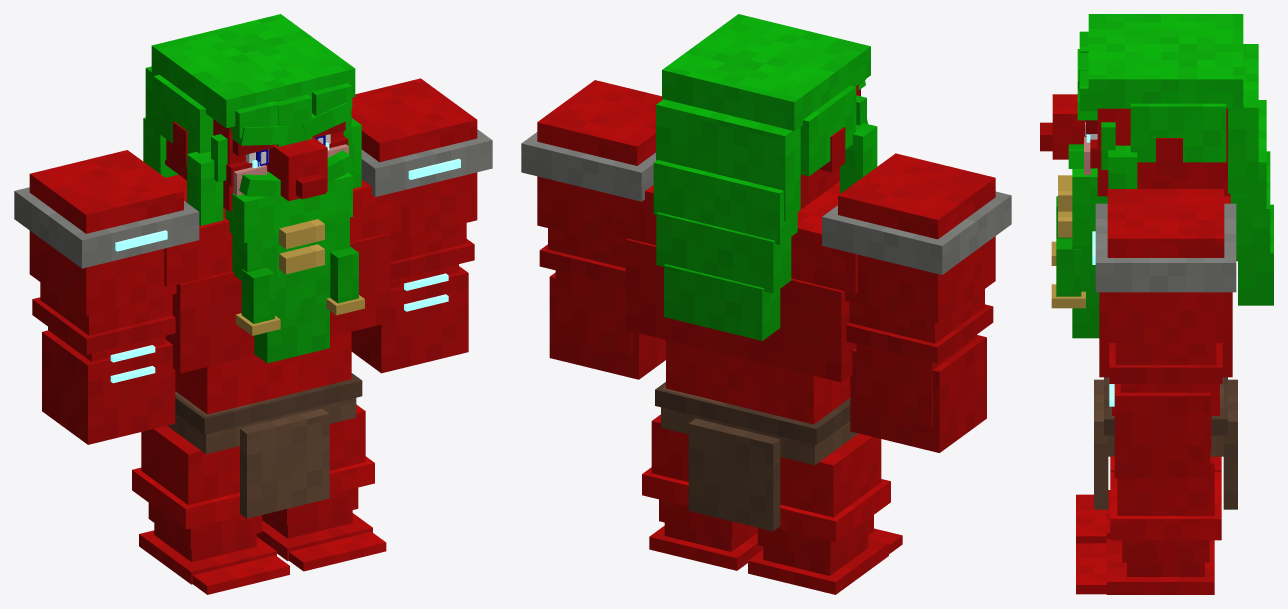
Rendered from dwarf_s1_evo2.glb.
3 renders of one model, left to right at view 1: azimuth 30°, elevation 25°; view 2: azimuth 150°, elevation 25°; view 3: azimuth 270°, elevation 25°, orthographic. The views are drawn at different scales.
Visible parts, largest first — view 1: Head, ArmR, Torso, ArmL, LegR, LegL; view 2: Head, Torso, ArmR, ArmL, LegR, LegL; view 3: Head, ArmL, LegL, Torso, LegR.
Part boxes in pixels (bbox=[...]): Head: bbox=[143, 14, 364, 363]; ArmR: bbox=[14, 150, 199, 444]; Torso: bbox=[164, 174, 400, 518]; ArmL: bbox=[351, 78, 492, 373]; LegR: bbox=[132, 426, 289, 594]; LegL: bbox=[256, 404, 386, 571]; Head: bbox=[653, 14, 877, 340]; Torso: bbox=[615, 182, 858, 531]; ArmR: bbox=[822, 153, 1011, 452]; ArmL: bbox=[521, 80, 665, 379]; LegR: bbox=[748, 433, 902, 594]; LegL: bbox=[642, 414, 763, 570]; Head: bbox=[1040, 14, 1273, 338]; ArmL: bbox=[1092, 189, 1236, 478]; LegL: bbox=[1076, 456, 1221, 594]; Torso: bbox=[1094, 196, 1237, 509]; LegR: bbox=[1076, 456, 1221, 543].
Size of the model in its own units: 1.37 by 1.54 by 0.65.
Materials: 26 (26 with a texture image).
